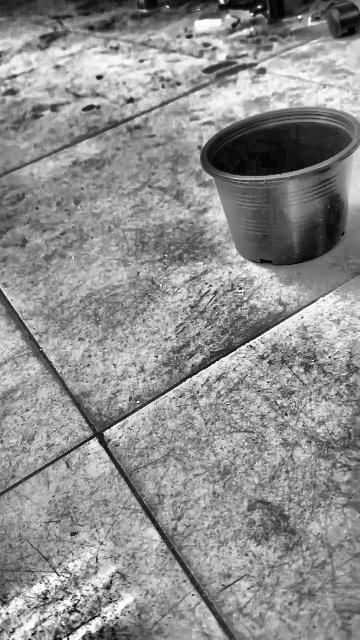pot: (201, 107, 360, 265)
